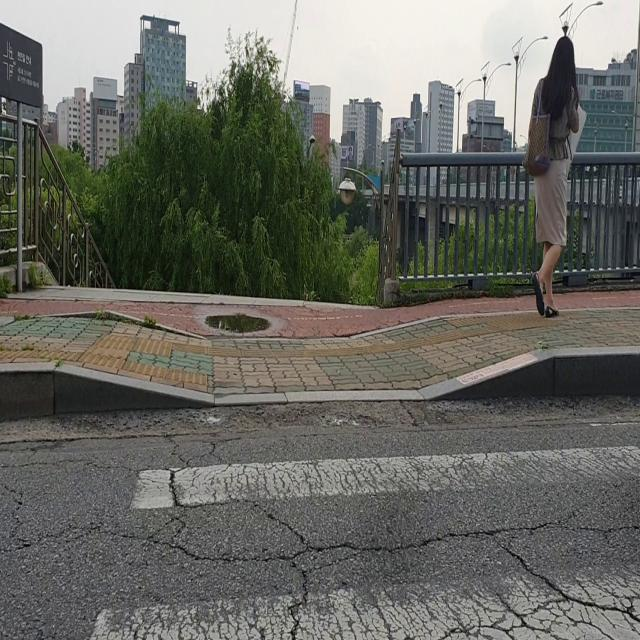횡단보도: (86, 439, 640, 639)
